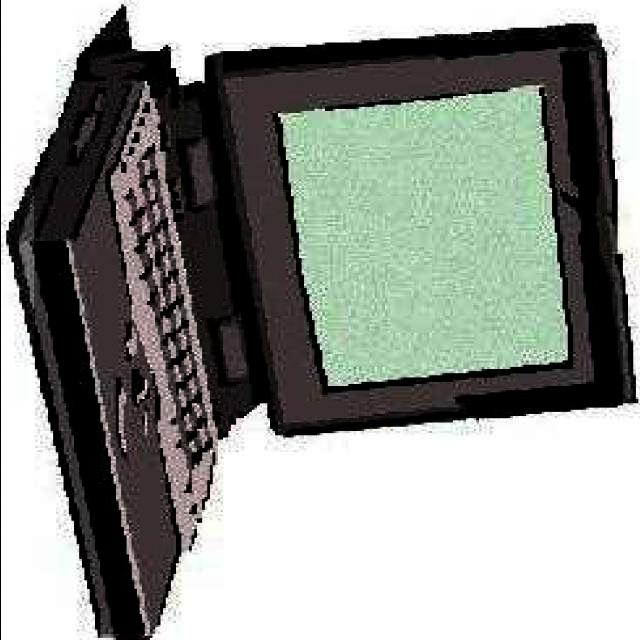-keyboard-: (34, 40, 636, 634)
